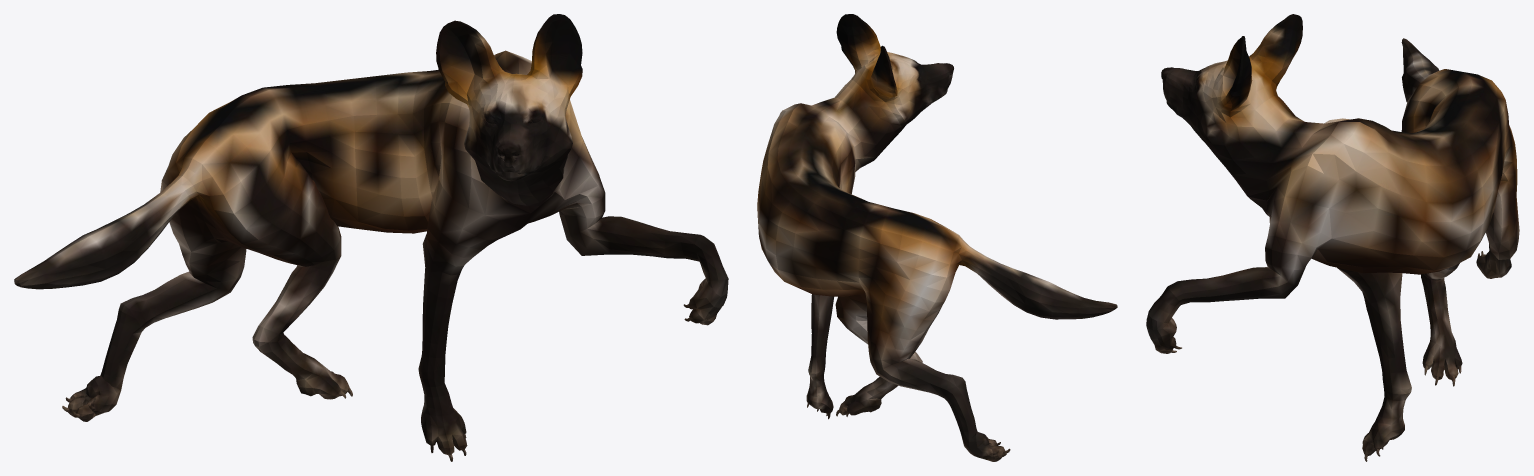
The model's file is wilddog.mesh.glb.
3 views of the same model, side by side, from view 1: azimuth 30°, elevation 25°; view 2: azimuth 150°, elevation 25°; view 3: azimuth 270°, elevation 25° (orthographic). The views are drawn at different scales.
Visible parts, largest first — view 1: root; view 2: root; view 3: root.
Part boxes in pixels (x1=…): root: x1=14, y1=14, x2=728, y2=461; root: x1=757, y1=14, x2=1117, y2=461; root: x1=1146, y1=14, x2=1519, y2=461.
Size of the model in its own units: 0.5053 by 0.409 by 0.3169.
Materials: 1 (1 with a texture image).
